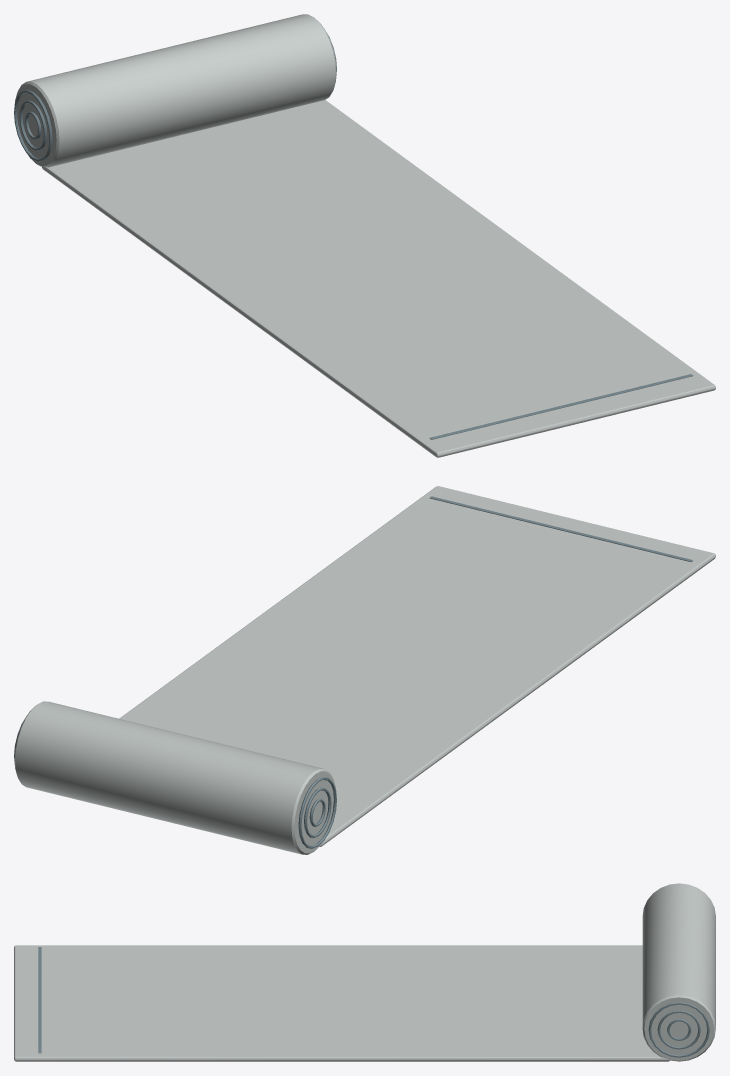
File: yoga-mat.glb
3 views of the same model, one above another, from view 1: azimuth 30°, elevation 25°; view 2: azimuth 150°, elevation 25°; view 3: azimuth 270°, elevation 25° (orthographic). The views are drawn at different scales.
Parts seen in each view (by area): view 1: mat, rolled_mat, mat_edge; view 2: mat, rolled_mat, mat_edge, rolled_edge.002; view 3: mat, rolled_mat, rolled_edge.005, mat_edge, rolled_edge.004.
Part boxes in pixels (x1=…): mat: x1=42, y1=100, x2=715, y2=457; rolled_mat: x1=15, y1=14, x2=336, y2=167; mat_edge: x1=429, y1=374, x2=693, y2=439; mat: x1=119, y1=486, x2=715, y2=846; rolled_mat: x1=14, y1=701, x2=335, y2=854; mat_edge: x1=430, y1=496, x2=692, y2=561; rolled_edge.002: x1=298, y1=777, x2=336, y2=848; mat: x1=14, y1=945, x2=669, y2=1061; rolled_mat: x1=642, y1=883, x2=715, y2=1061; rolled_edge.005: x1=648, y1=1002, x2=709, y2=1057; mat_edge: x1=38, y1=947, x2=41, y2=1053; rolled_edge.004: x1=657, y1=1010, x2=700, y2=1049.
Size of the model in its own units: 0.6352 by 0.17 by 1.63.
